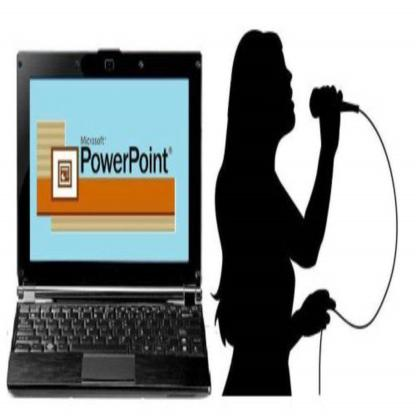board: (6, 49, 211, 398)
